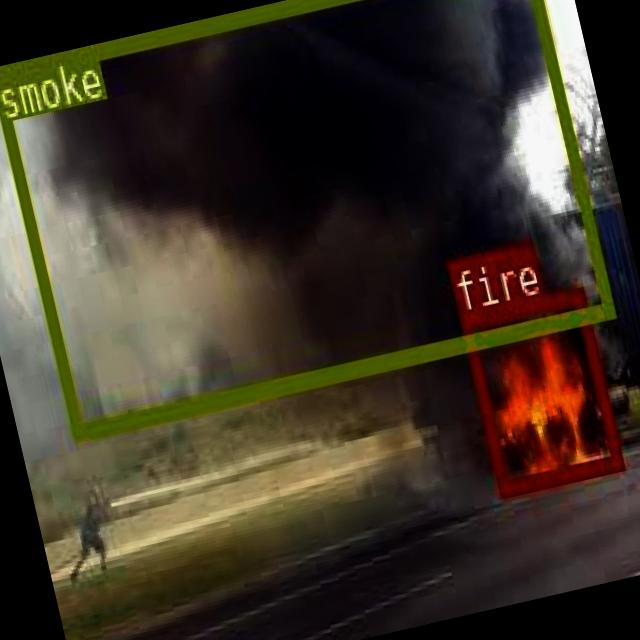fire: (456, 284, 622, 494)
smoke: (0, 0, 613, 436)
